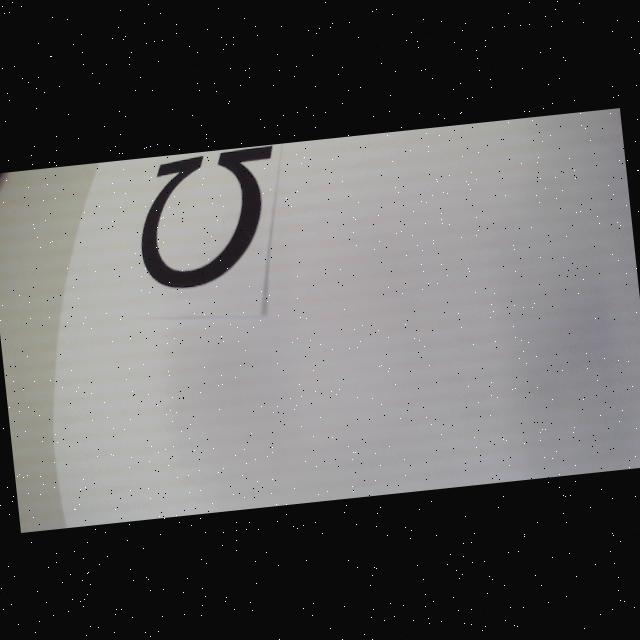OMEGA: (131, 144, 286, 292)
